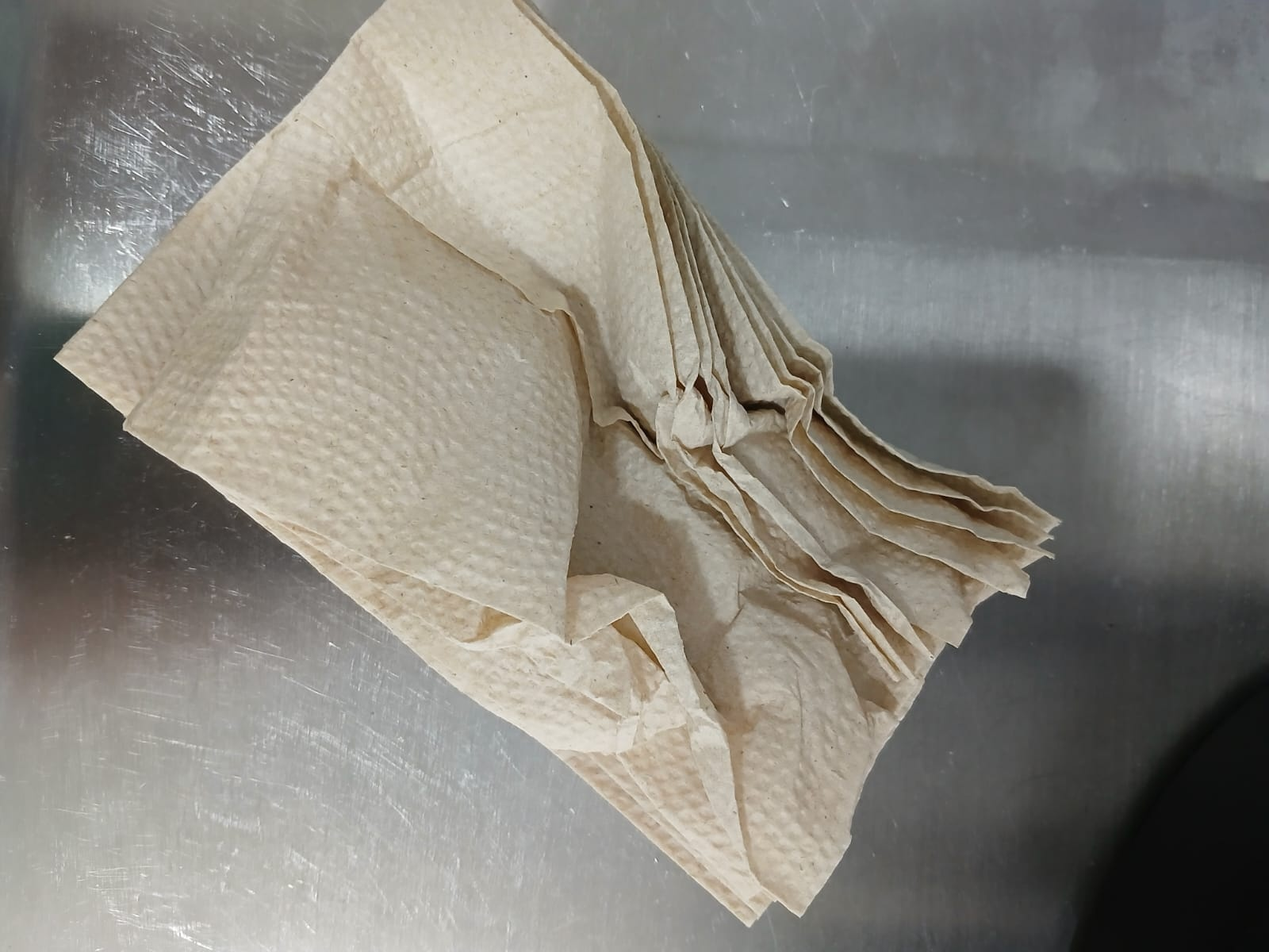Ordinario: (50, 0, 1061, 931)
